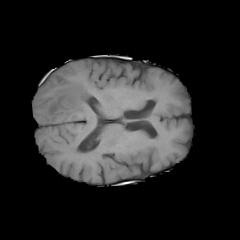glioma: (47, 81, 90, 118)
